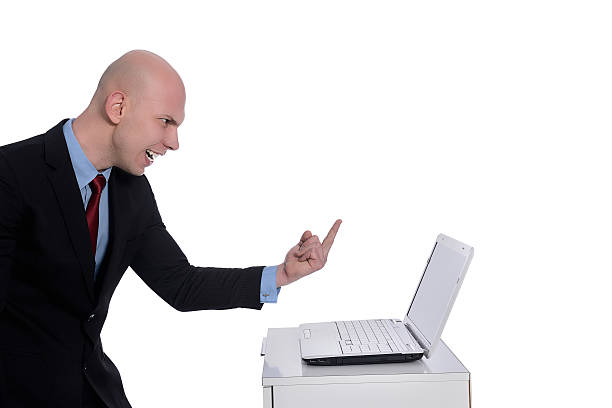insulting_gesture: (286, 214, 344, 280)
